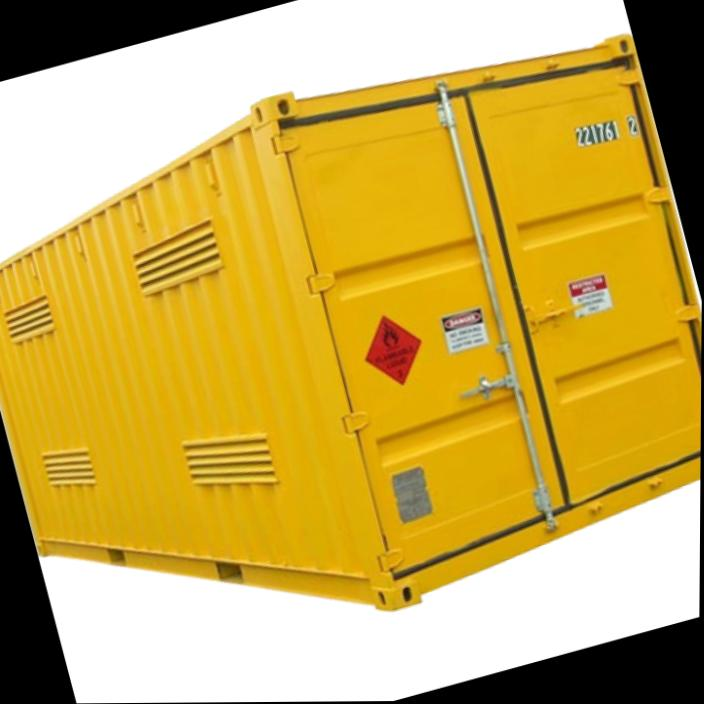can and bottle trash cans: (367, 317, 420, 384)
